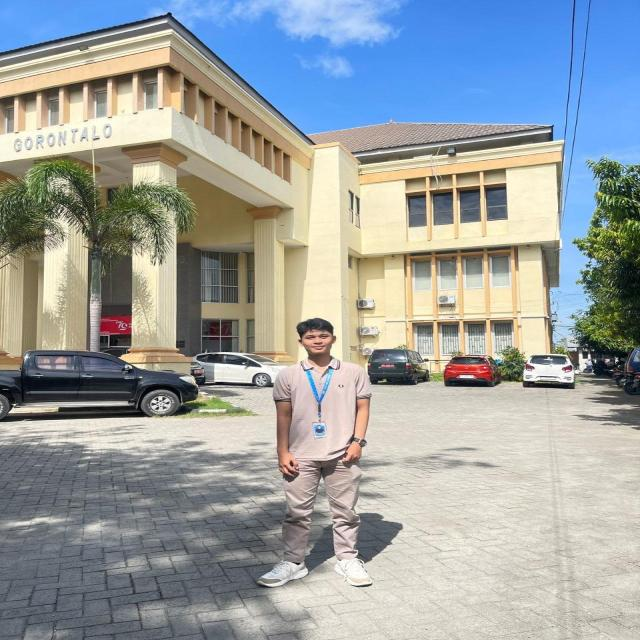nohelmet: (290, 312, 343, 369)
